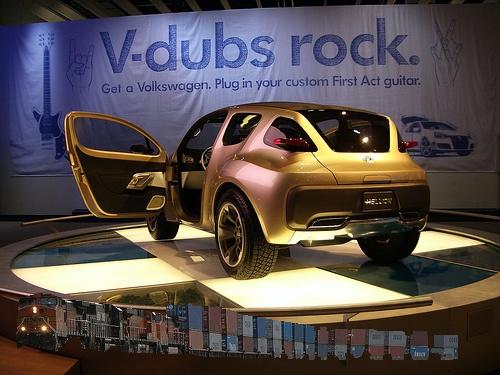tampered: (17, 294, 458, 360)
